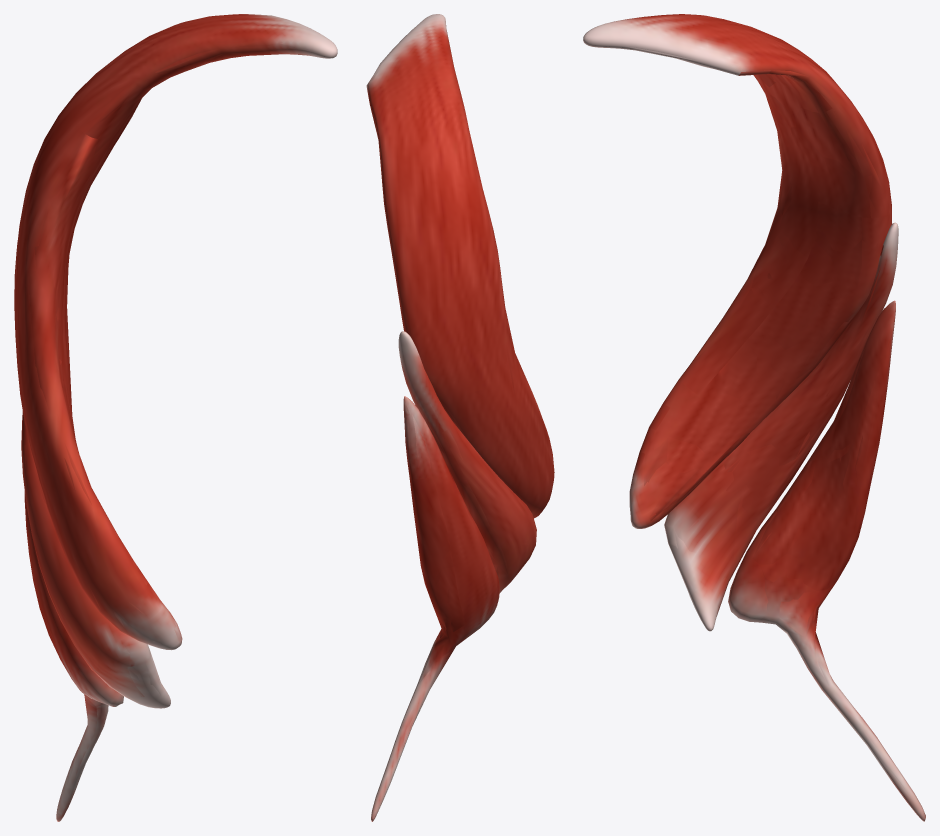
File: R Biceps Femoris.fbx
The picture shows the model from 3 angles, left to right: view 1: azimuth 30°, elevation 25°; view 2: azimuth 150°, elevation 25°; view 3: azimuth 270°, elevation 25°; orthographic projection. The views are drawn at different scales.
Parts seen in each view (by area): view 1: R Biceps Femoris, R Biceps Femoris low; view 2: R Biceps Femoris, R Biceps Femoris low; view 3: R Biceps Femoris, R Biceps Femoris low.
Boxes of the visible parts, bbox=[...] form: R Biceps Femoris: bbox=[14, 14, 337, 821]; R Biceps Femoris low: bbox=[15, 16, 334, 795]; R Biceps Femoris: bbox=[366, 14, 554, 821]; R Biceps Femoris low: bbox=[367, 30, 550, 819]; R Biceps Femoris: bbox=[583, 14, 925, 821]; R Biceps Femoris low: bbox=[610, 23, 924, 819].
Size of the model in its own units: 24.45 by 94.74 by 35.21.
